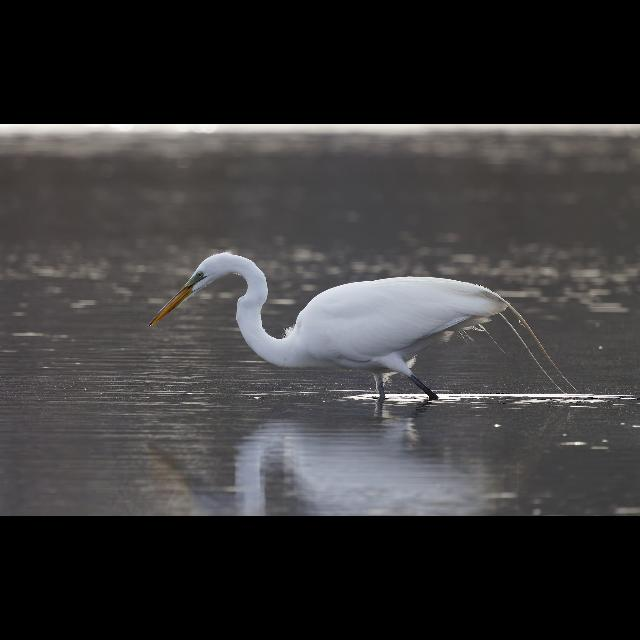egret: (145, 245, 543, 410)
